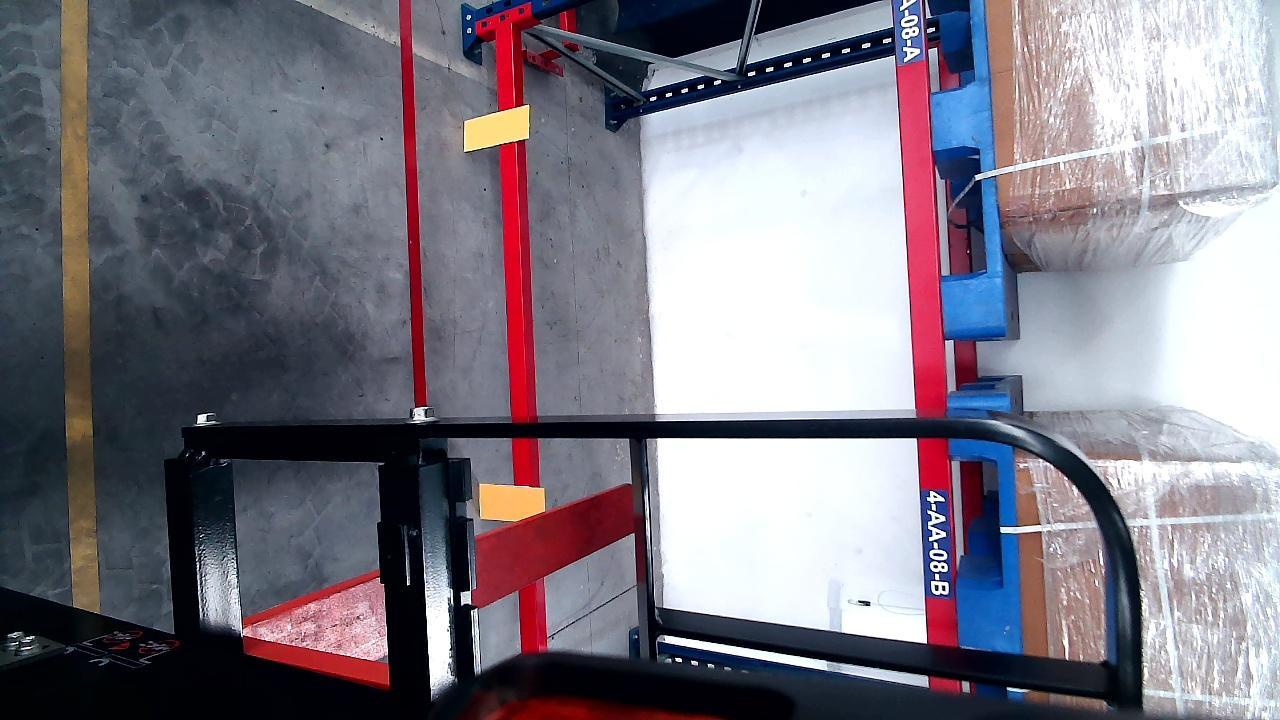red_line: (398, 0, 431, 418)
yellow_line: (58, 0, 99, 615)
